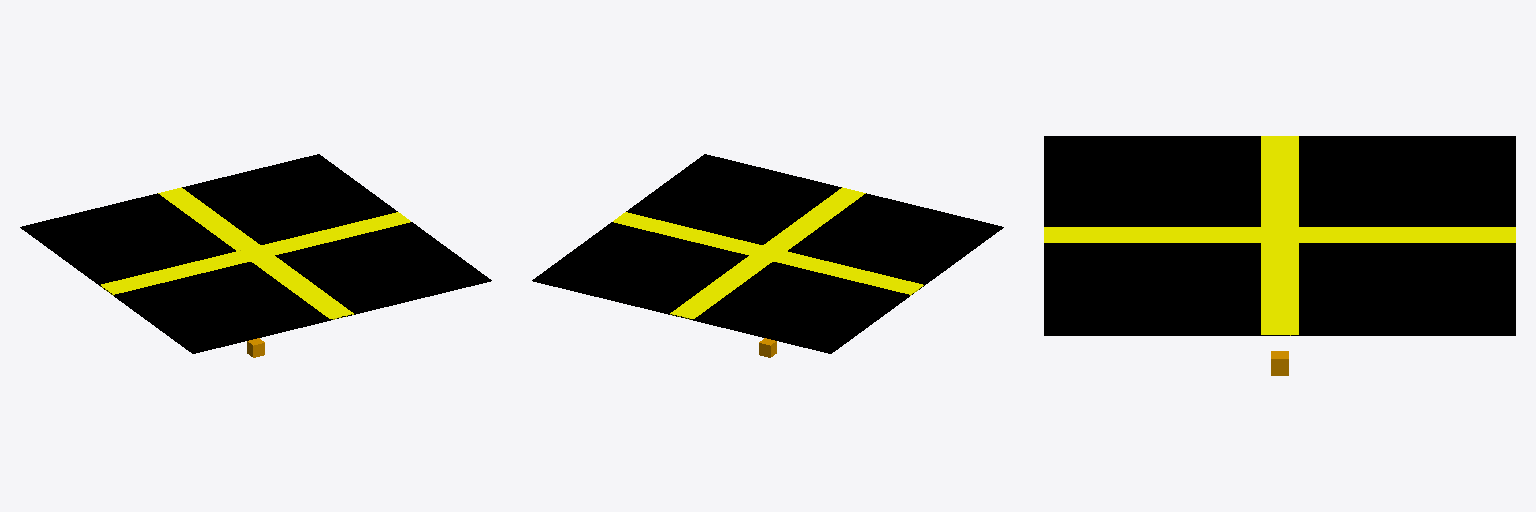
robot.urdf — platform:
<?xml version="1.0"?>
<robot name="platform">
    <link name="base_link">
        <visual>
            <geometry>
                <box size="0.1 0.1 0.1" />
            </geometry>
        </visual>
    </link>
    <link name="helipad_base_link">
        <visual>
            <geometry>
                <box size="0.001 0.001 0.001" />
            </geometry>
        </visual>
    </link>
    <link name="helipad_xrot_link">
        <visual>
            <geometry>
                <box size="0.001 0.001 0.001" />
            </geometry>
        </visual>
    </link>
    <link name="helipad_yrot_link">
        <inertial>
            <mass value="5" />
            <origin xyz="0 0 0" rpy="0 0 0" />
            <inertia ixx="1" ixy="0" ixz="0" iyy="1" iyz="0" izz="2" />
          </inertial>
        <visual>
            <geometry>
                 <box size="2.5 2.5 0.01"/>
            </geometry>
            <material name="black">
                <color rgba="0 0 0 1"/>
            </material>
        </visual>
        <collision>
            <geometry>
                 <box size="2.5 2.5 0.01"/>
            </geometry>
        </collision>
    </link>
    <link name="horizontal">
        <visual>
            <geometry>
                 <box size="2.5 0.2 0.01"/>
            </geometry>
            <material name="yellow">
                <color rgba="255 255 0 1"/>
            </material>
        </visual>
    </link>
    <link name="vertical">
        <visual>
            <geometry>
                 <box size="0.2 2.5 0.01"/>
            </geometry>
            <material name="yellow">
                <color rgba="255 255 0 1"/>
            </material>
        </visual>
    </link>
    <joint name="base_to_helipad_linear" type="prismatic">
        <parent link="base_link" />
        <child link="helipad_base_link" />
        <origin xyz="0.0 0.0 0.25" />
        <axis xyz="0.0 0.0 1.0" />
        <limit lower="-0.5" upper="0.5" effort="100" velocity="100"/>
    </joint>
    <joint name="base_to_helipad_xrot" type="revolute">
        <parent link="helipad_base_link" />
        <child link="helipad_xrot_link" />
        <origin xyz="0.0 0.0 0.25" />
        <axis xyz="1.0 0.0 0.0" />
        <limit lower="-0.35" upper="0.35" effort="100" velocity="100"/>
    </joint>
    <joint name="base_to_helipad_yrot" type="revolute">
        <parent link="helipad_xrot_link" />
        <child link="helipad_yrot_link" />
        <origin xyz="0.0 0.0 0.25" />
        <axis xyz="0.0 1.0 0.0" />
        <limit lower="-0.35" upper="0.35" effort="100" velocity="100"/>
    </joint>
    <joint name="helipad_to_horizontal" type="fixed">
        <parent link="helipad_yrot_link" />
        <child link="horizontal" />
        <origin xyz="0.0 0.0 0.0001" />
    </joint>
    <joint name="helipad_to_vertical" type="fixed">
        <parent link="helipad_yrot_link" />
        <child link="vertical" />
        <origin xyz="0.0 0.0 0.0001" />
    </joint>
</robot>

--- What the picture shows (computed from the rendered views, not written in the file) ---
The picture shows the robot from 3 angles, left to right: view 1: azimuth 30°, elevation 25°; view 2: azimuth 150°, elevation 25°; view 3: azimuth 270°, elevation 25°; orthographic projection.
Robot: platform — 6 links, 5 joints (2 revolute, 1 prismatic, 2 fixed); root link base_link; default pose: all joints at 0.
Links seen in each view (by area): view 1: helipad_yrot_link, horizontal, vertical; view 2: helipad_yrot_link, horizontal, vertical; view 3: helipad_yrot_link, horizontal, vertical.
Link boxes in pixels (x1=…): helipad_yrot_link: x1=20, y1=154, x2=491, y2=353; horizontal: x1=100, y1=212, x2=410, y2=295; vertical: x1=158, y1=187, x2=353, y2=319; helipad_yrot_link: x1=532, y1=154, x2=1003, y2=353; horizontal: x1=613, y1=212, x2=923, y2=295; vertical: x1=670, y1=187, x2=865, y2=319; helipad_yrot_link: x1=1044, y1=136, x2=1515, y2=335; horizontal: x1=1261, y1=136, x2=1298, y2=335; vertical: x1=1044, y1=227, x2=1515, y2=242.
Bounding box of the posed robot: 2.5 × 2.5 × 0.8051 m (x, y, z).
Geometry: primitives only (box / cylinder / sphere), no mesh files.